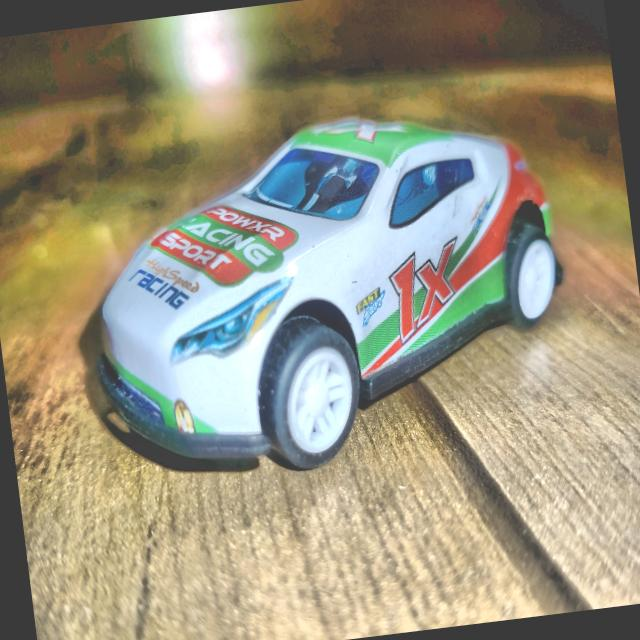Car: (81, 100, 582, 492)
